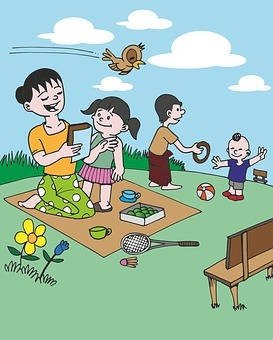bird: (101, 42, 146, 78)
chair: (192, 210, 271, 310)
person: (7, 65, 94, 219), (74, 93, 139, 211), (145, 89, 201, 198), (212, 128, 268, 202)
